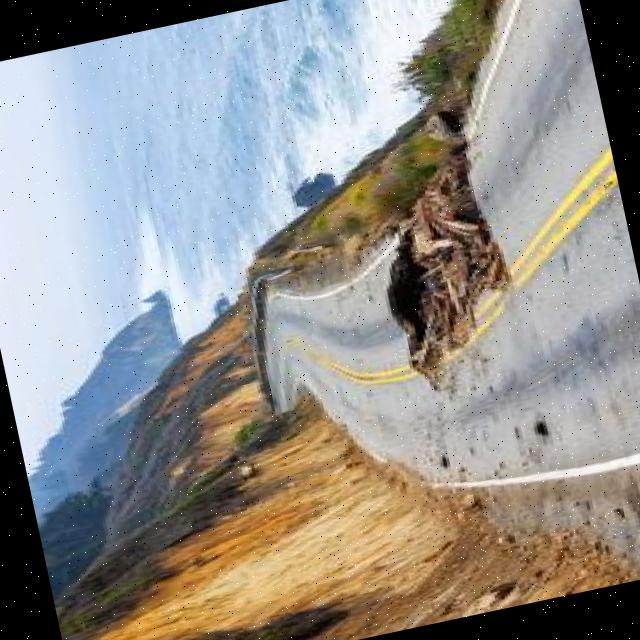road collapse: (43, 0, 640, 472)
